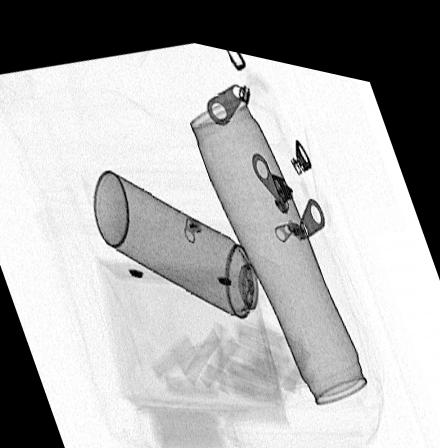Sprayer: (91, 161, 289, 326)
